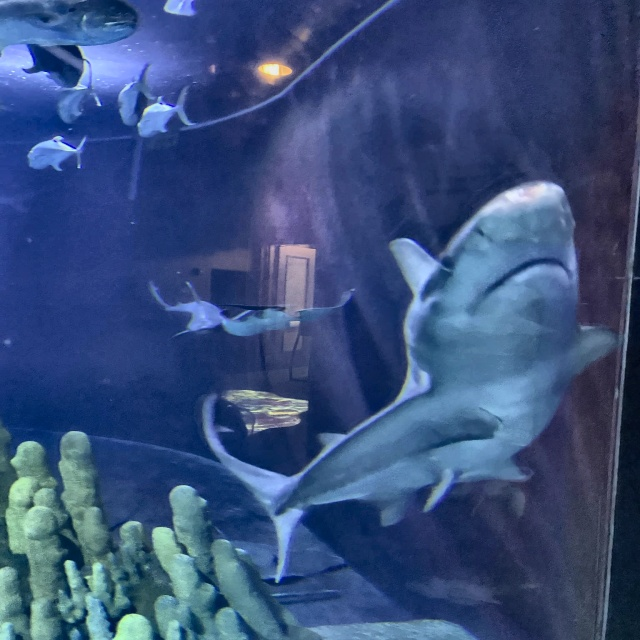fish: (0, 3, 148, 62), (138, 96, 192, 140), (52, 77, 98, 127), (23, 139, 88, 173), (110, 74, 152, 125)
shark: (201, 178, 612, 578)
